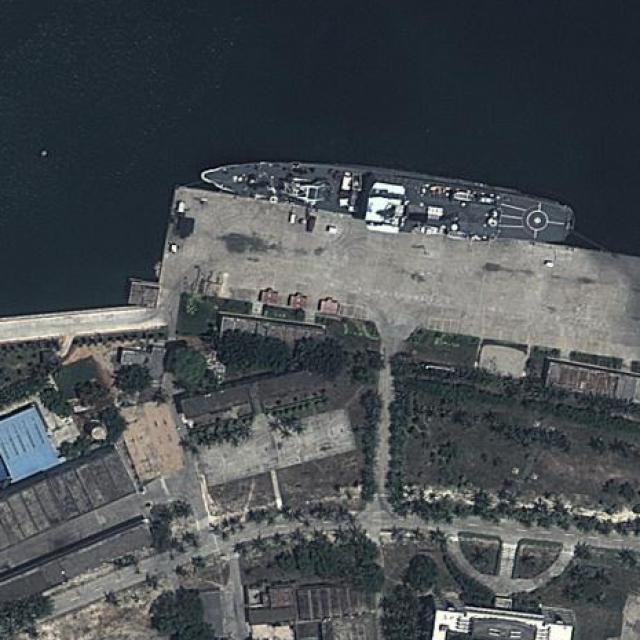Landing: (197, 147, 575, 246)
